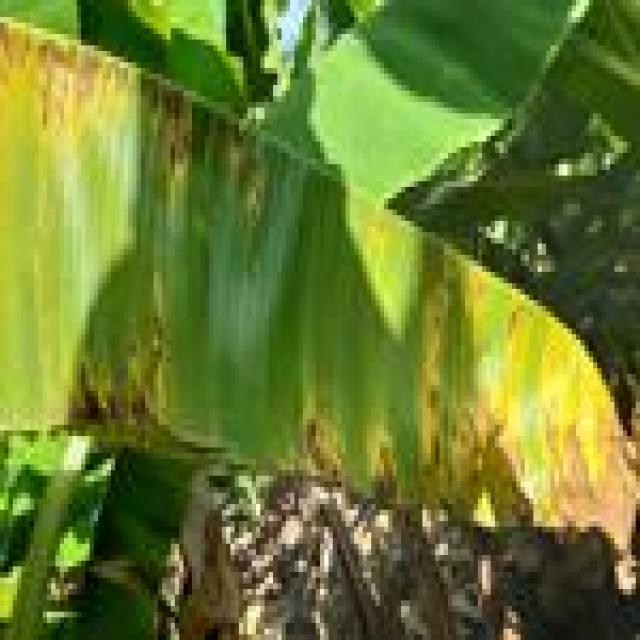Early_rust: (0, 12, 640, 611)
